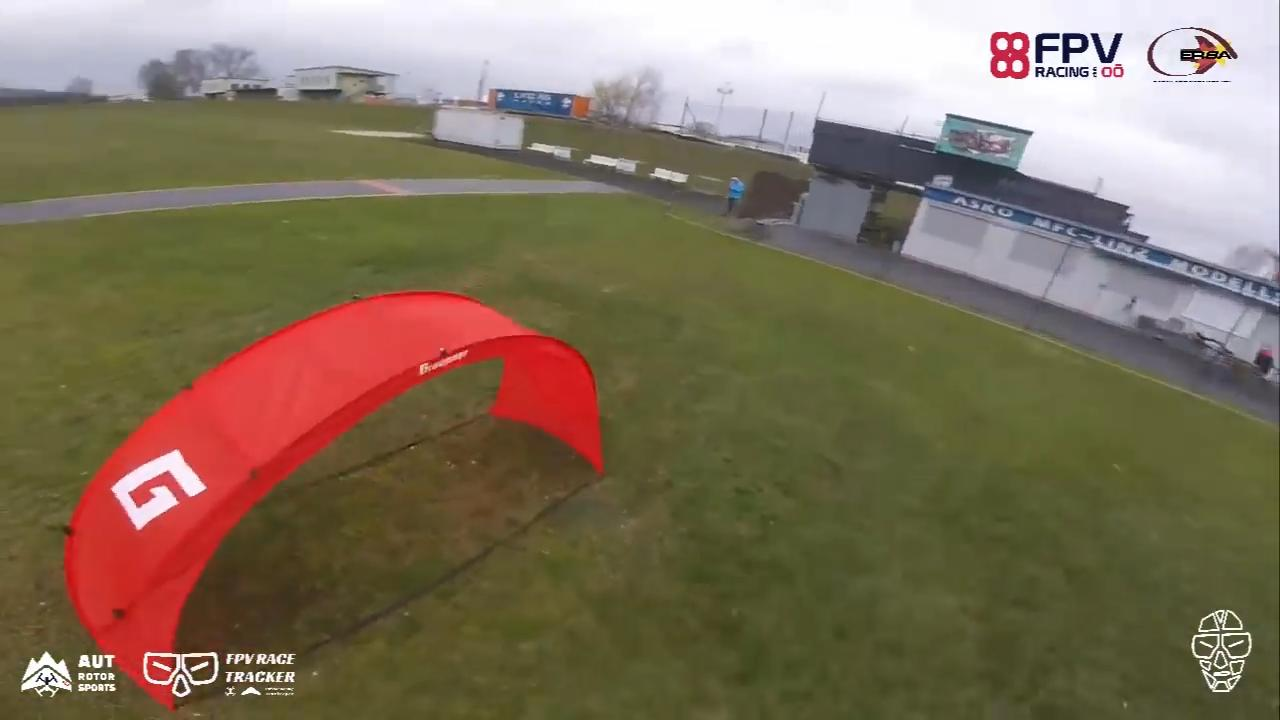gate: (58, 297, 609, 714)
